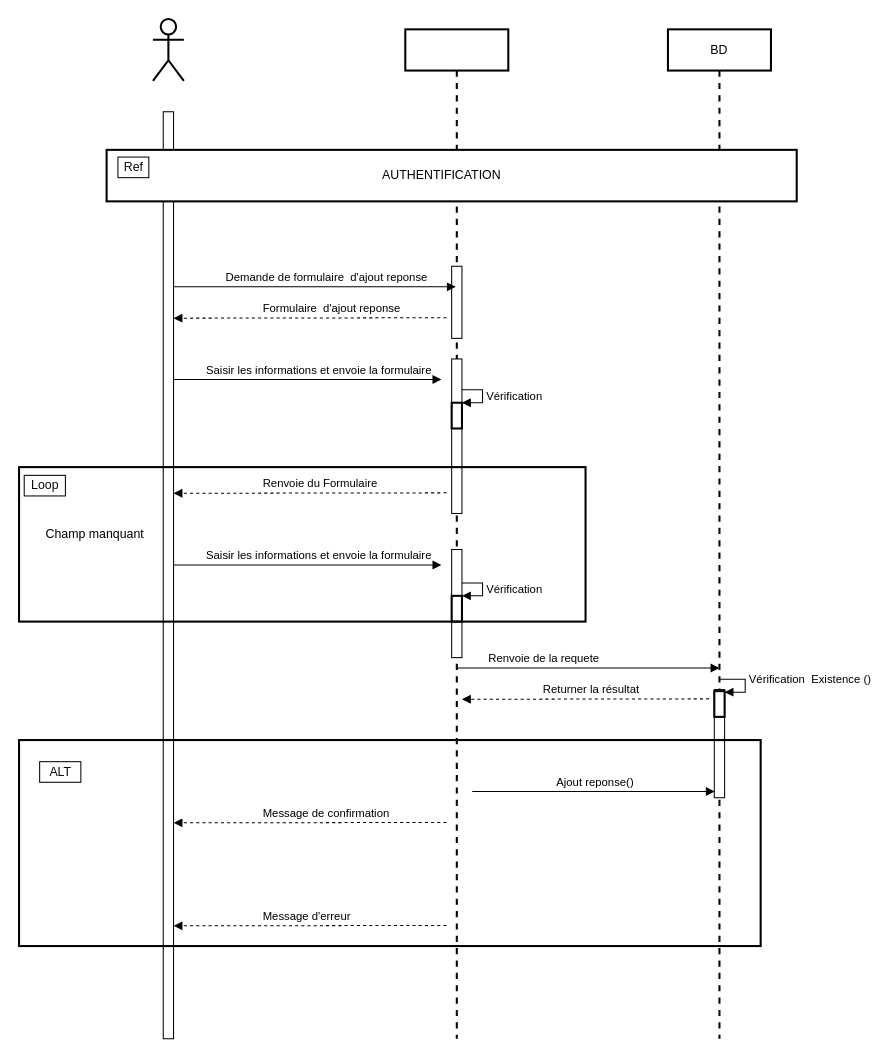
Some shapes in this 889 by 1057 pixel diagram are drawn without their labels. The shapes that lost their labels are listed below. From the top down, each one's box as (x1, y1, x2, y2) in pixels, then its label:
(151, 18, 184, 81): User / Admin
(404, 28, 509, 1039): APPLICATION
